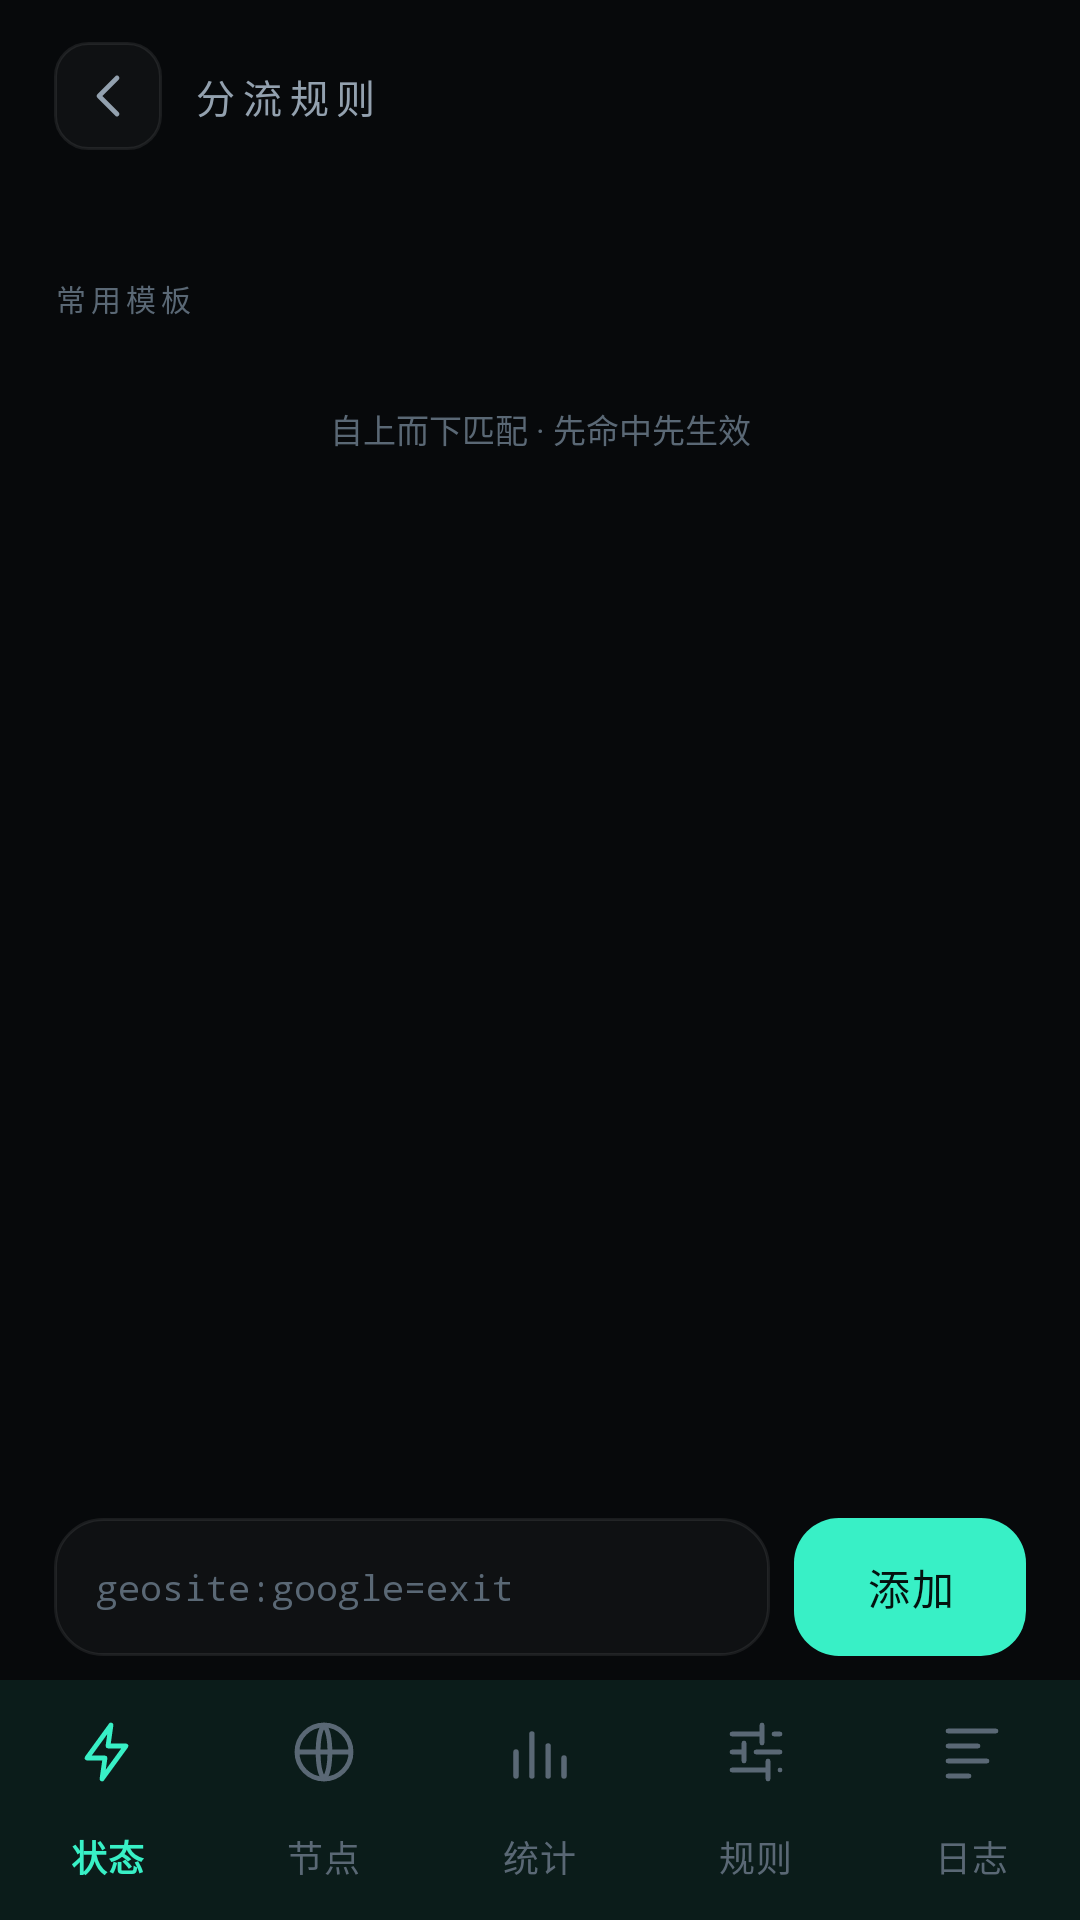

Icon bounding boxes for this 1080w x 1920h phone screenshot, format detection(x1, y1, x2, y2):
返回: detection(56, 44, 160, 148)
